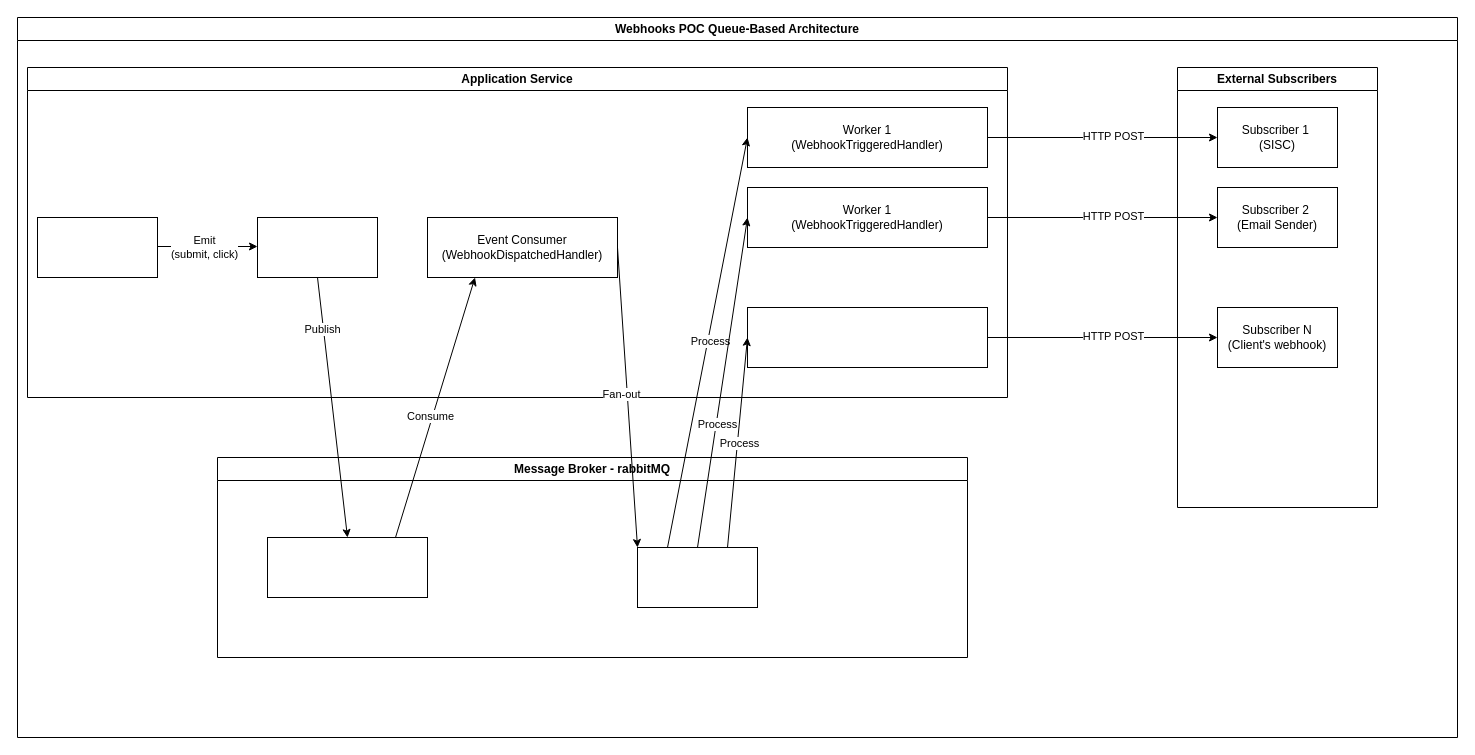
The diagram is 1475 pixels wide and 755 high, and some of its shapes have lost their labels. Each missing label, with the centre of its shape:
"API Endpoint o ASPX Page" goes at (97,247).
"Event Dispatcher" goes at (317,247).
"Event-queue (webhook-dispatched)" goes at (347,567).
"webhooks-queue (webhook-triggered)" goes at (697,577).
"Worker N (WebhookTriggeredHandler)" goes at (867,337).
